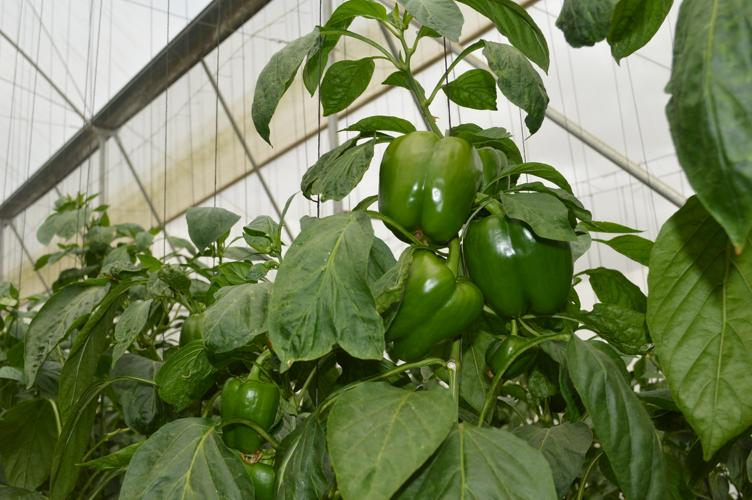BellPepper: (382, 251, 487, 360), (466, 217, 572, 319), (376, 131, 471, 242), (220, 377, 282, 449), (472, 147, 513, 210)
